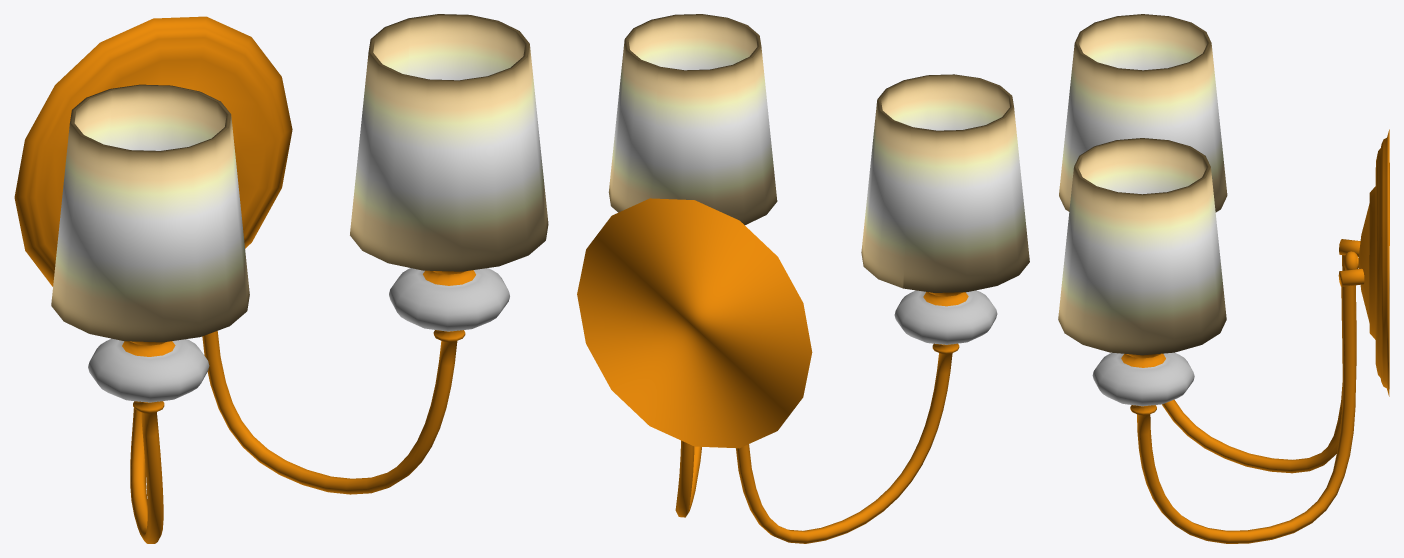
The model's file is wall-lamp.fbx.
The picture shows the model from 3 angles, left to right: view 1: azimuth 30°, elevation 25°; view 2: azimuth 150°, elevation 25°; view 3: azimuth 270°, elevation 25°; orthographic projection. The views are drawn at different scales.
Parts seen in each view (by area): view 1: wall-lamp; view 2: wall-lamp; view 3: wall-lamp.
Part boxes in pixels (x1,y1,x2,y2): wall-lamp: (14, 14, 548, 543); wall-lamp: (577, 14, 1029, 543); wall-lamp: (1058, 14, 1389, 543).
Bounding box in the file's own units: 54.36 × 39.35 × 52.5.
